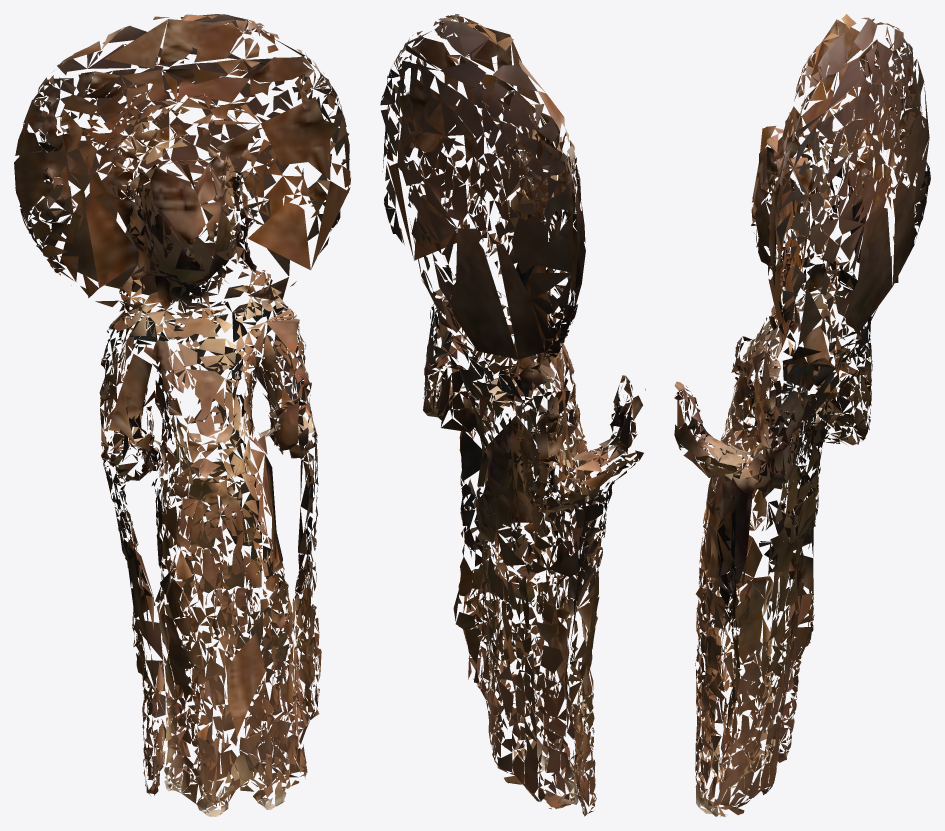
Rendered from far.glb.
3 views of the same model, side by side, from view 1: azimuth 30°, elevation 25°; view 2: azimuth 150°, elevation 25°; view 3: azimuth 270°, elevation 25° (orthographic). The views are drawn at different scales.
Parts seen in each view (by area): view 1: statue-025; view 2: statue-025; view 3: statue-025.
Boxes of the visible parts, x1,y1,x2,y2 form: statue-025: (14,14,351,816); statue-025: (380,14,645,816); statue-025: (674,14,930,816).
Size of the model in its own units: 0.3655 by 1 by 0.2997.
Materials: 2 (2 with a texture image).
